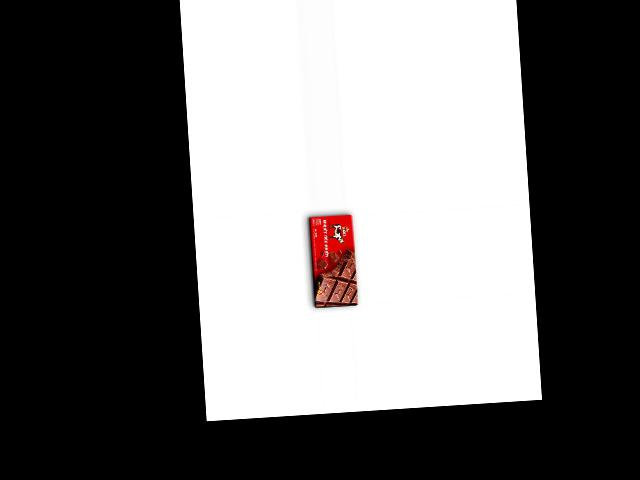chocolate: (305, 211, 360, 310)
